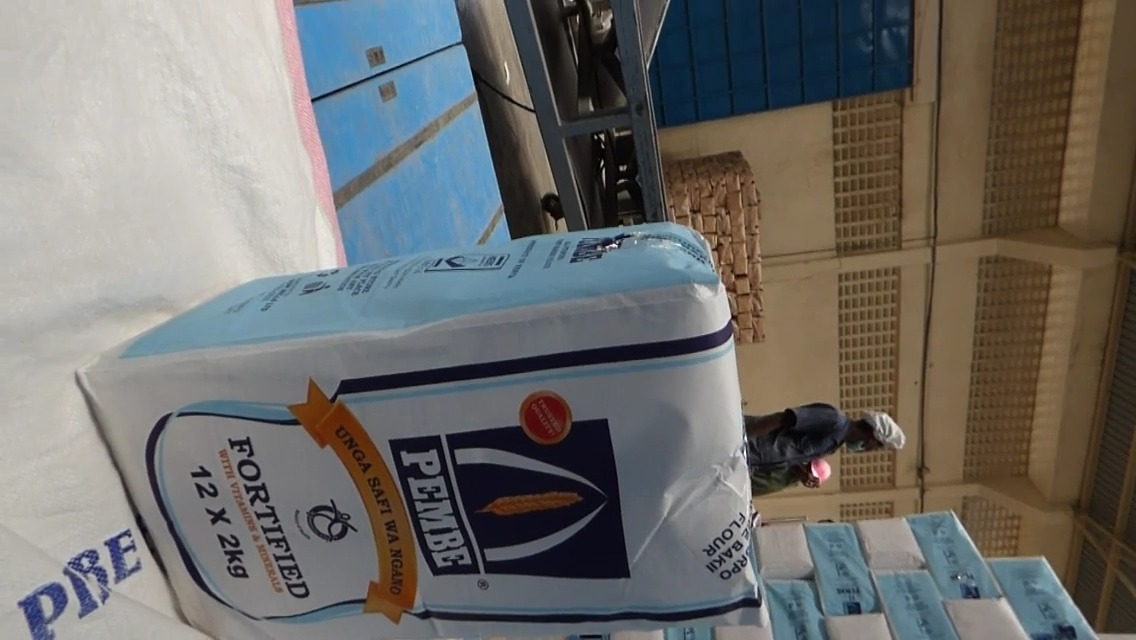wheat_flour_blue_label: (81, 231, 753, 628)
